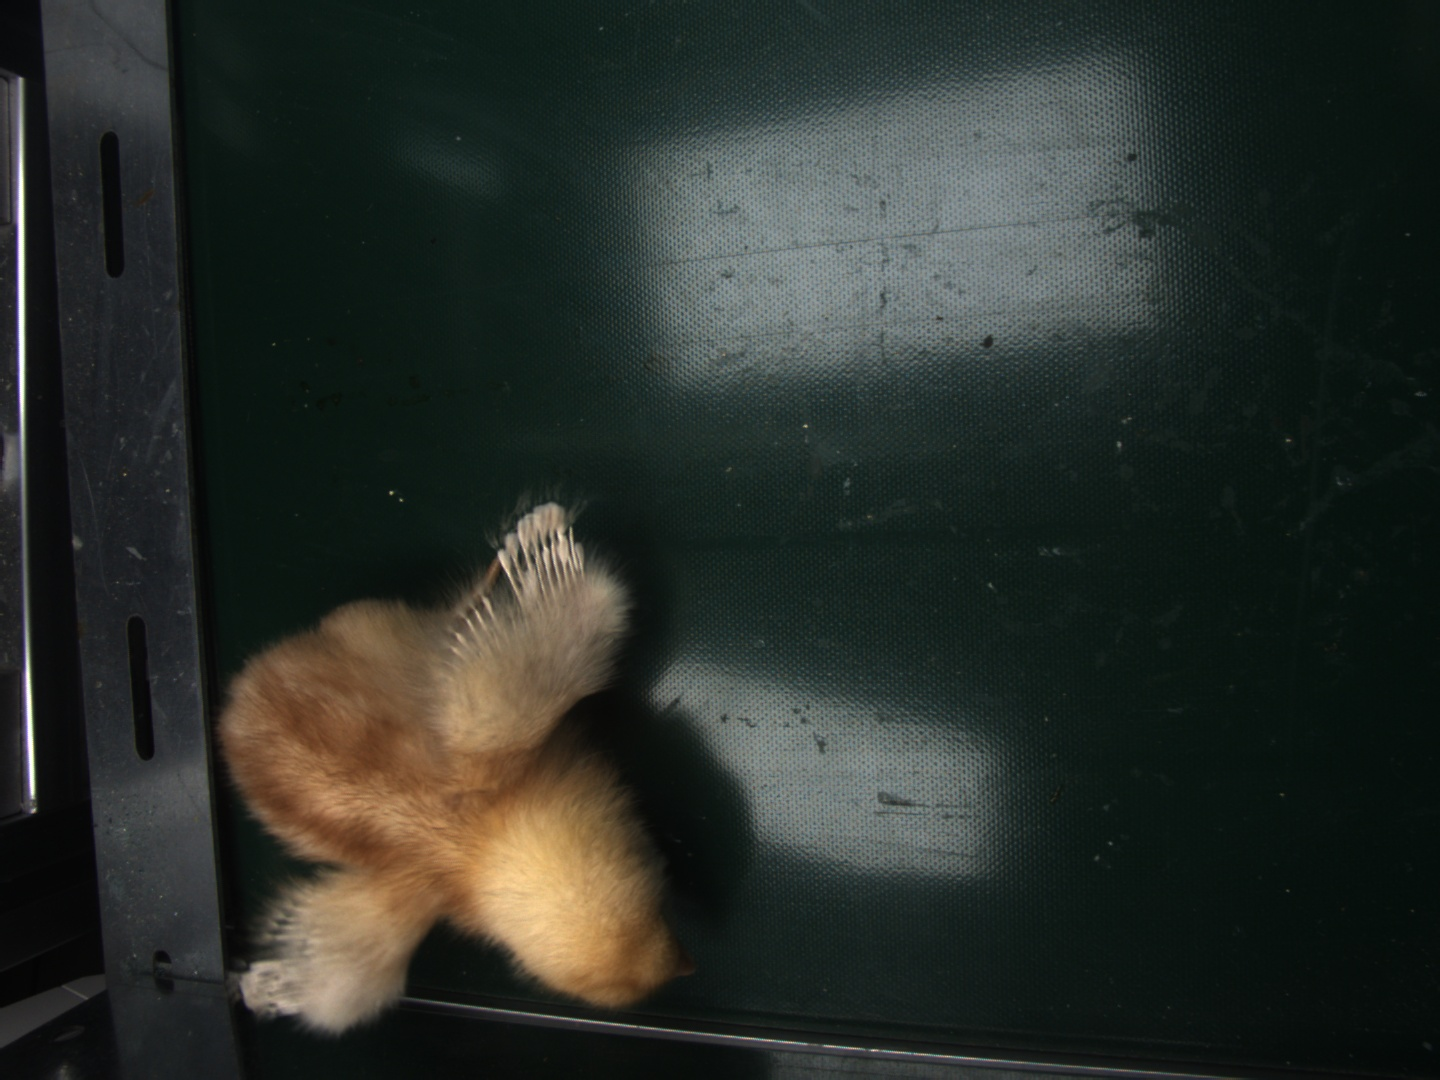female: (494, 501, 581, 594)
